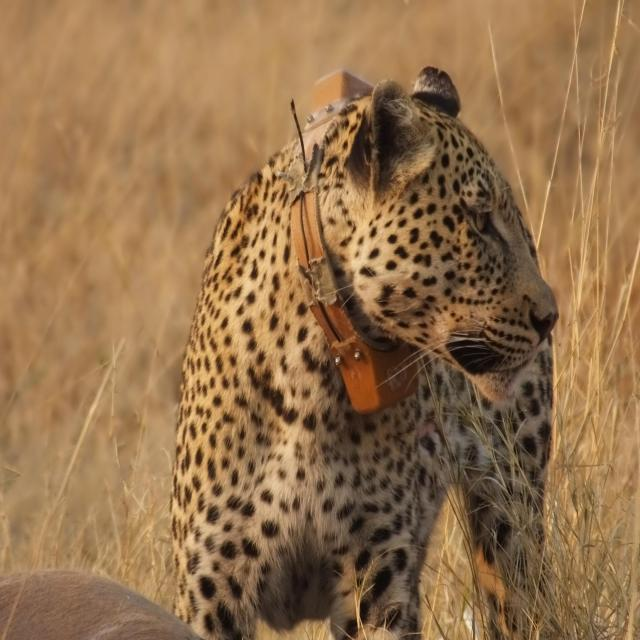Leopard: (179, 75, 550, 640)
